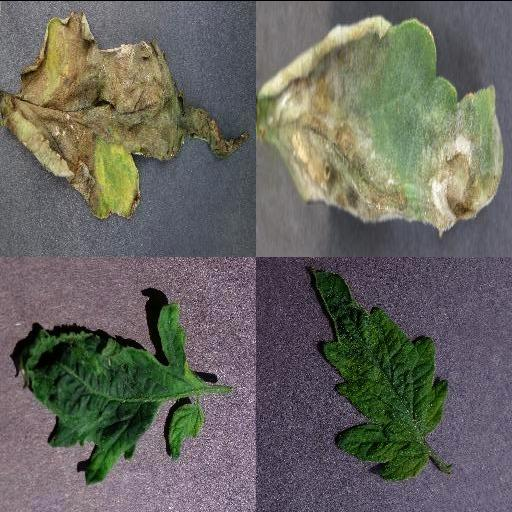Late Blight: (256, 13, 504, 236), (0, 11, 250, 221)
Mosaic Virus: (18, 301, 200, 483), (308, 265, 450, 483)
